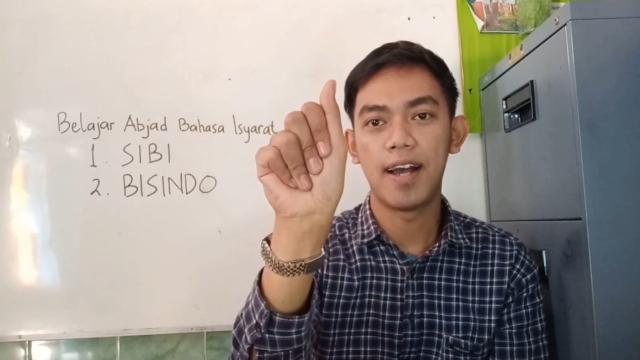A: (256, 78, 350, 222)
